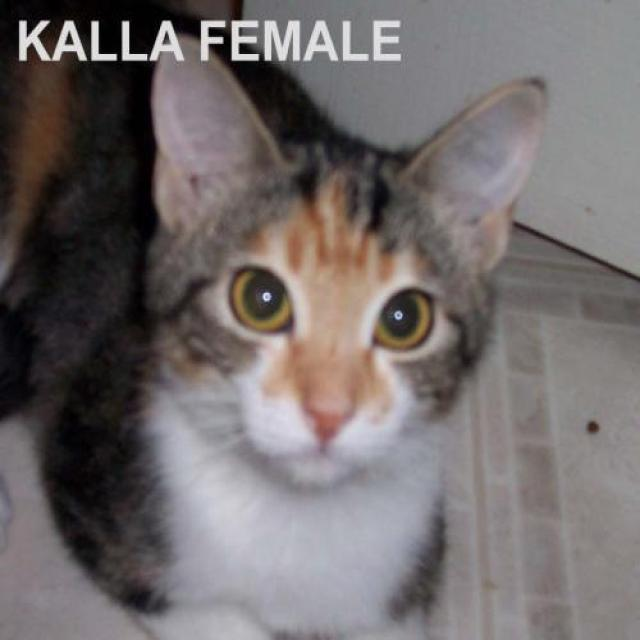Cats: (0, 0, 548, 639)
